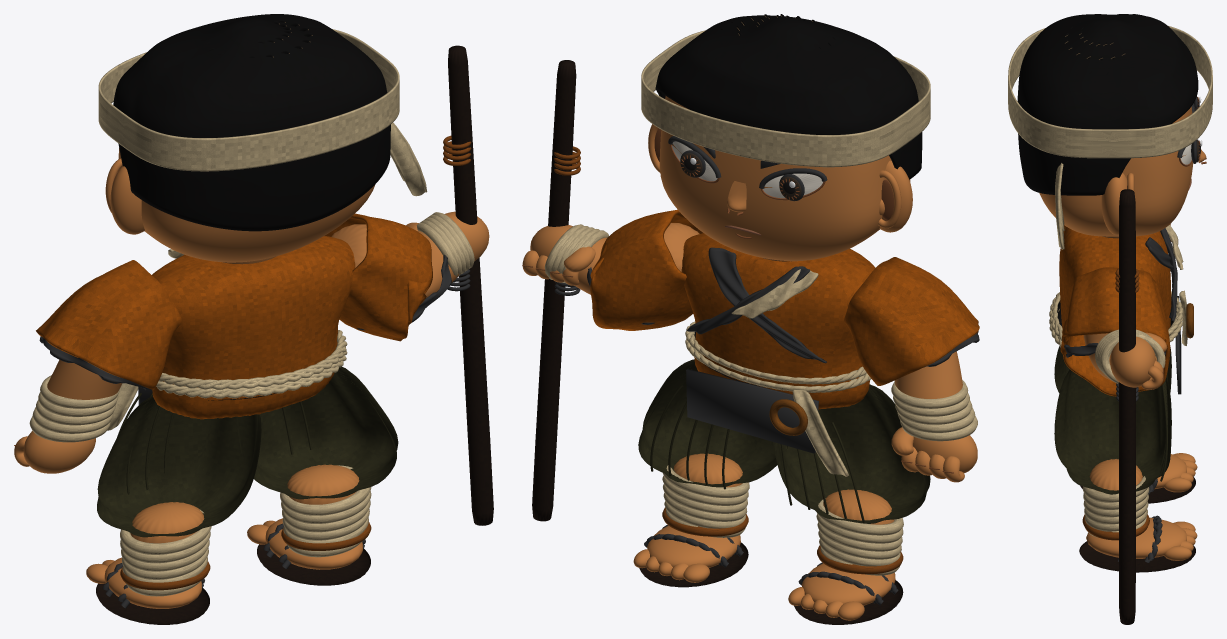
The model's file is gaku.glb.
3 renders of one model, left to right at view 1: azimuth 30°, elevation 25°; view 2: azimuth 150°, elevation 25°; view 3: azimuth 270°, elevation 25°, orthographic. The views are drawn at different scales.
Parts seen in each view (by area): view 1: Gaku__Fitted_scalp, Gaku__Under_kimono, Gaku__Trousers_-1, Gaku__Broad_woven_headband, Gaku__Trousers_1, Gaku__Kimono_sleeve_-1, Gaku__Pilgrim_staff, Gaku__Kimono_sleeve_1, Gaku__Face_sculpt_cage, Gaku__Calf_-1, Gaku__Calf_1, Gaku__Palm_-1 (+31 smaller); view 2: Gaku__Fitted_scalp, Gaku__Under_kimono, Gaku__Face_sculpt_cage, Gaku__Kimono_sleeve_-1, Gaku__Broad_woven_headband, Gaku__Trousers_-1, Gaku__Kimono_sleeve_1, Gaku__Pilgrim_staff, Gaku__Trousers_1, Gaku__Pilgrim_front_apron, Gaku__Kimono_lapel_cross, Gaku__Foot_-1 (+32 smaller); view 3: Gaku__Fitted_scalp, Gaku__Trousers_1, Gaku__Broad_woven_headband, Gaku__Pilgrim_staff, Gaku__Kimono_sleeve_1, Gaku__Face_sculpt_cage, Gaku__Under_kimono, Gaku__Foot_1, Gaku__Palm_1, Gaku__Sandal_sole_1, Gaku__Ear_1, Gaku__Calf_1 (+20 smaller).
Boxes of the visible parts, x1,y1,x2,y2 form: Gaku__Fitted_scalp: (113, 14, 390, 231); Gaku__Under_kimono: (152, 236, 355, 419); Gaku__Trousers_-1: (97, 395, 261, 537); Gaku__Broad_woven_headband: (98, 29, 399, 171); Gaku__Trousers_1: (236, 366, 398, 499); Gaku__Kimono_sleeve_-1: (36, 260, 181, 389); Gaku__Pilgrim_staff: (448, 45, 493, 525); Gaku__Kimono_sleeve_1: (325, 213, 432, 341); Gaku__Face_sculpt_cage: (118, 148, 374, 262); Gaku__Calf_-1: (130, 502, 204, 543); Gaku__Calf_1: (287, 464, 359, 504); Gaku__Palm_-1: (23, 431, 95, 473); Gaku__Fitted_scalp: (655, 15, 922, 179); Gaku__Under_kimono: (681, 233, 875, 409); Gaku__Face_sculpt_cage: (659, 96, 910, 261); Gaku__Kimono_sleeve_-1: (844, 257, 979, 385); Gaku__Broad_woven_headband: (641, 30, 930, 167); Gaku__Trousers_-1: (773, 384, 930, 523); Gaku__Kimono_sleeve_1: (590, 209, 702, 330); Gaku__Pilgrim_staff: (532, 60, 576, 521); Gaku__Trousers_1: (638, 359, 787, 487); Gaku__Pilgrim_front_apron: (686, 369, 818, 453); Gaku__Kimono_lapel_cross: (708, 247, 826, 363); Gaku__Foot_-1: (801, 563, 895, 605); Gaku__Fitted_scalp: (1017, 14, 1198, 195); Gaku__Trousers_1: (1054, 369, 1171, 494); Gaku__Broad_woven_headband: (1008, 26, 1212, 158); Gaku__Pilgrim_staff: (1119, 189, 1135, 624); Gaku__Kimono_sleeve_1: (1060, 267, 1170, 396); Gaku__Face_sculpt_cage: (1039, 106, 1193, 236); Gaku__Under_kimono: (1059, 227, 1171, 329); Gaku__Foot_1: (1086, 517, 1187, 558); Gaku__Palm_1: (1110, 336, 1155, 387); Gaku__Sandal_sole_1: (1079, 541, 1195, 572); Gaku__Ear_1: (1101, 173, 1127, 234); Gaku__Calf_1: (1089, 459, 1142, 491).
Bounding box in the file's own units: 2.17 × 2.55 × 0.9508.
Materials: 17 (8 with a texture image).
